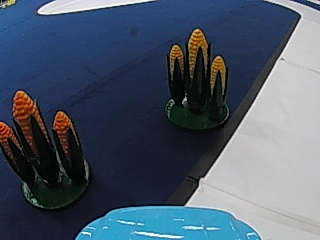corn: (3, 86, 94, 206), (162, 24, 234, 131)
